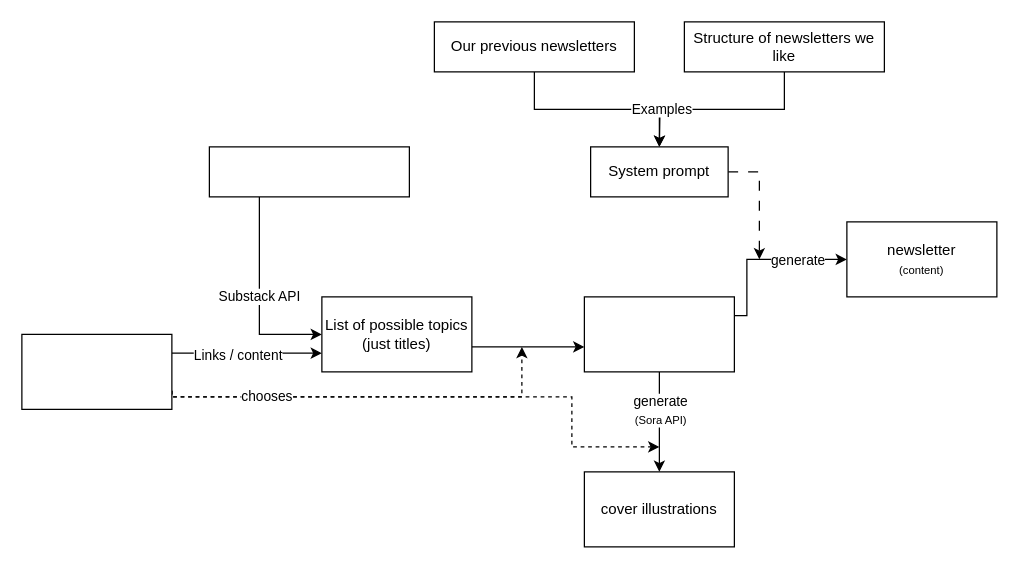
Some shapes in this 1019 by 569 pixel diagram are drawn without their labels. The shapes that lost their labels are listed below. From the top down, each one's centre as x and y in pixels, then its label:
the point at 308,171: Reference newsletters
the point at 658,334: 4-5 topics (title + content)
the point at 96,371: Human
